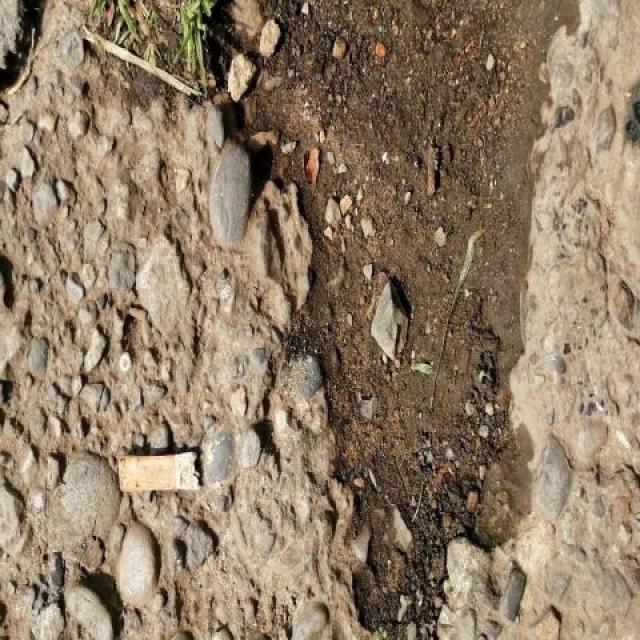non-organic waste: (114, 446, 206, 498)
